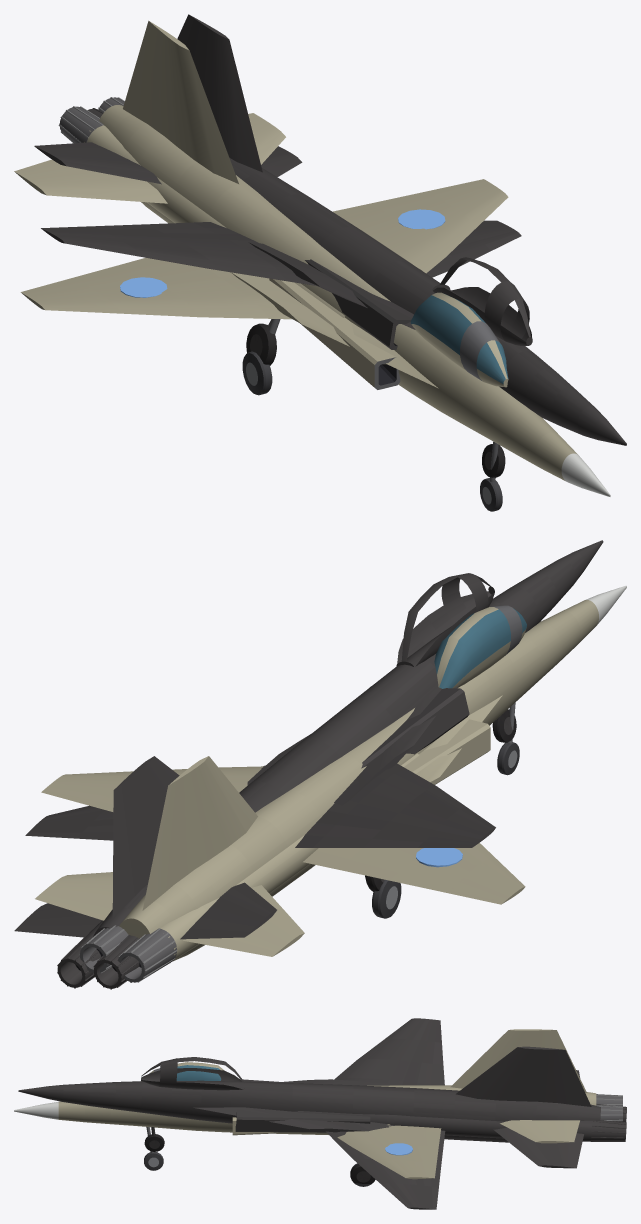
File: lightFighter__kf_5f.glb
The picture shows the model from 3 angles, top to bottom: view 1: azimuth 30°, elevation 25°; view 2: azimuth 150°, elevation 25°; view 3: azimuth 270°, elevation 25°; orthographic projection. The views are drawn at different scales.
Parts seen in each view (by area): view 1: Fuselage_Mesh, Wreck; view 2: Fuselage_Mesh, Wreck; view 3: Wreck, Fuselage_Mesh.
Part boxes in pixels (x1,y1,x2,y2): Fuselage_Mesh: (14, 20, 610, 511); Wreck: (34, 14, 626, 477); Fuselage_Mesh: (35, 585, 626, 982); Wreck: (14, 540, 603, 989); Wreck: (18, 1018, 626, 1209); Fuselage_Mesh: (14, 1029, 622, 1186).
Size of what is drawn, in the model's own units: 8.39 by 4 by 15.84.
